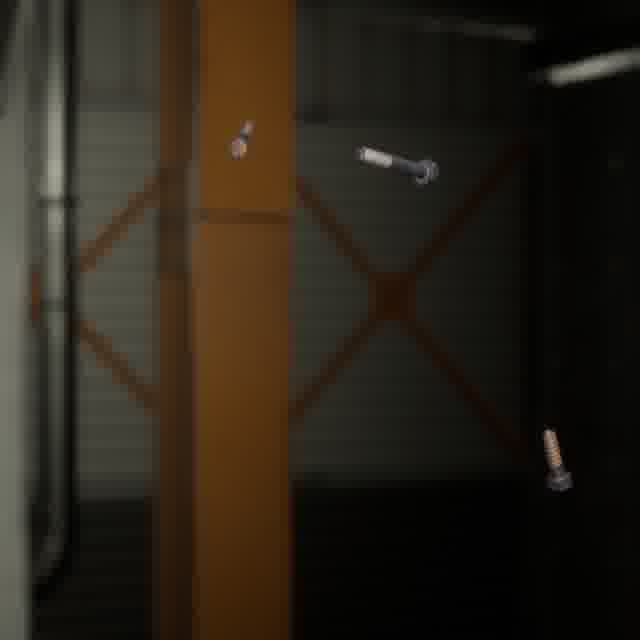bolt: (351, 142, 443, 191), (538, 424, 576, 495), (224, 114, 258, 163)
